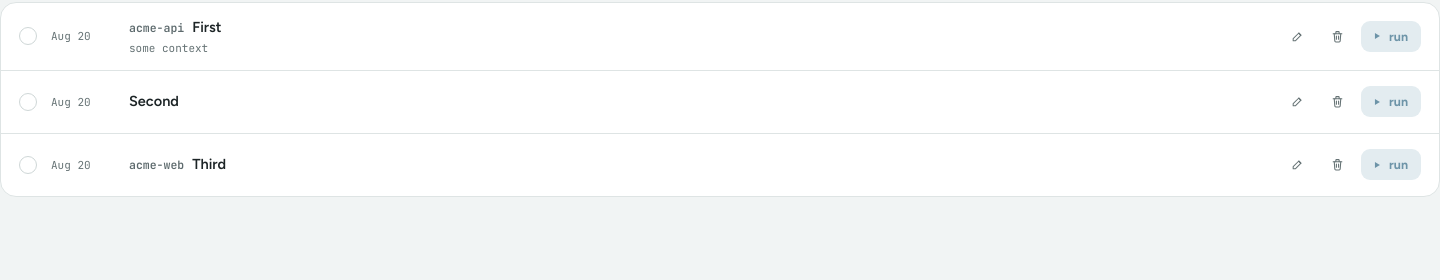
Test: BacklogView Run batch › sends one batch for the whole selection, then clears it and marks each row staged
Click the 1st checkbox with test id "backlog-select-checkbox" at (28, 36), box 19,27 -> 37,45
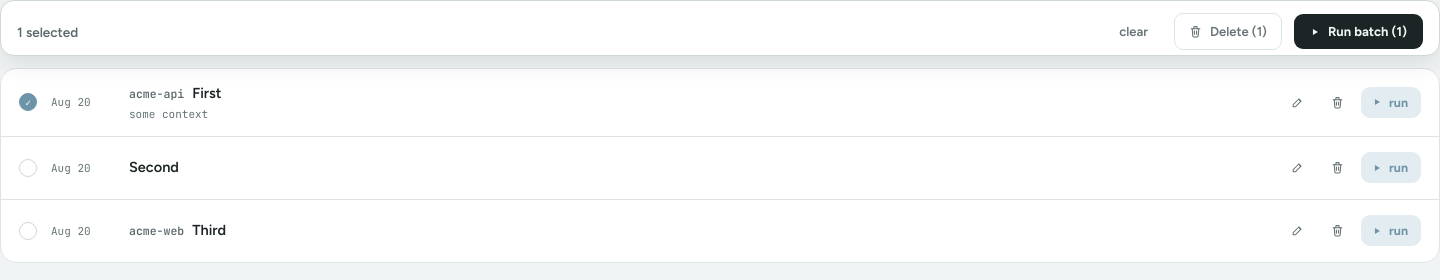
Click the 3rd checkbox with test id "backlog-select-checkbox" at (28, 231), box 19,222 -> 37,240
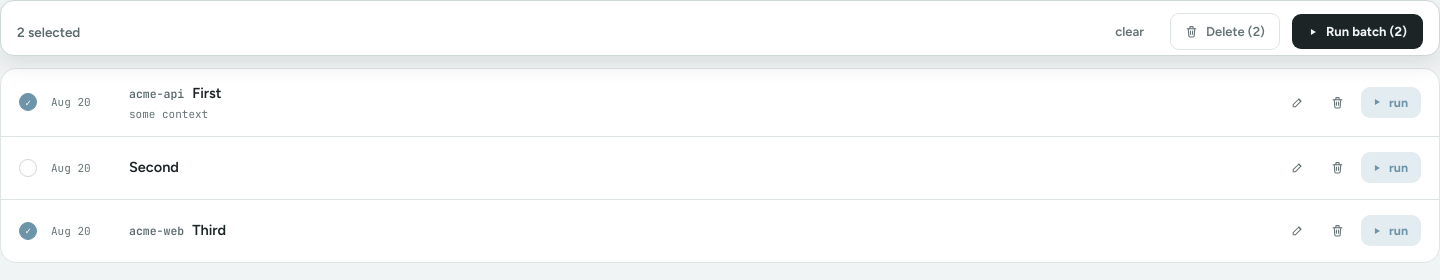
Click the button with test id "backlog-run-selected-btn" at (1357, 32), box 1292,14 -> 1423,49
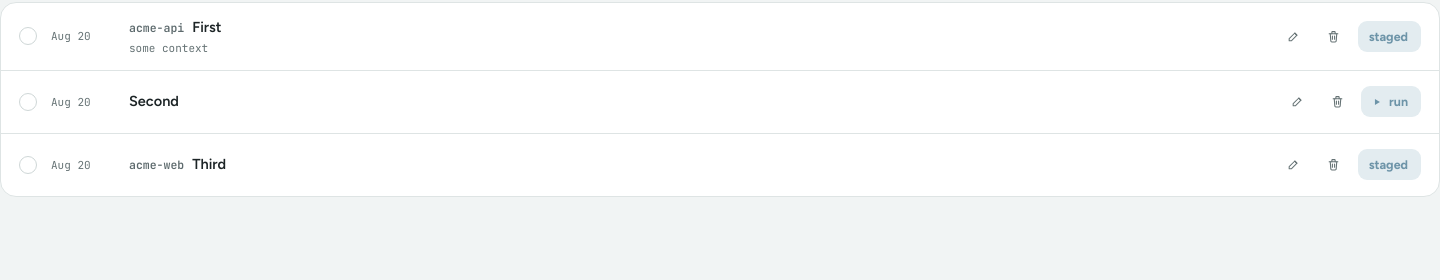
Expected: the button with test id "backlog-play-btn" in the row of "Third" reads "staged", 1358,149 -> 1421,180
